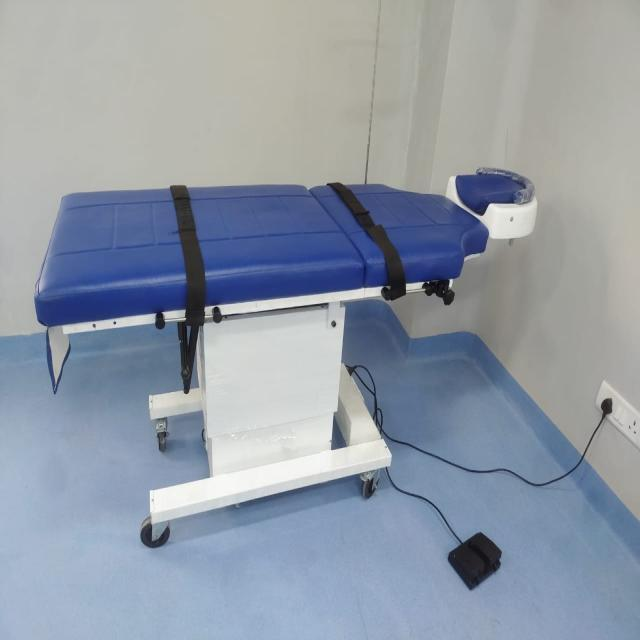bed: (32, 165, 538, 548)
